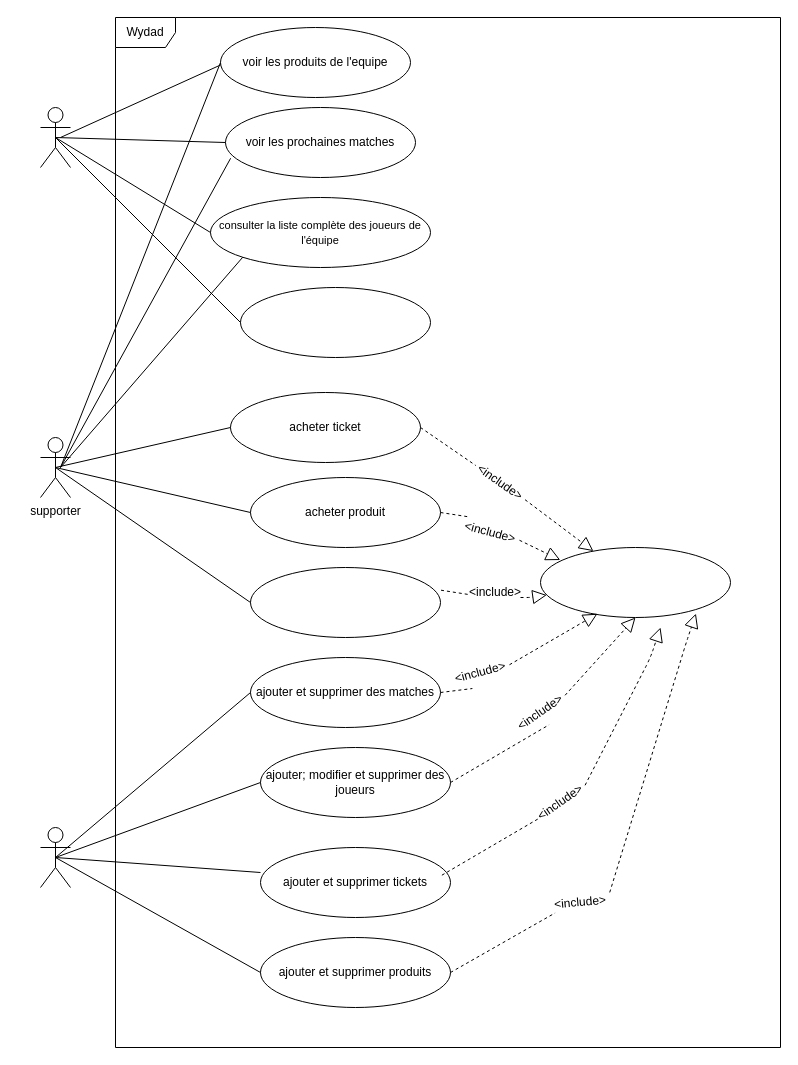
Some shapes in this 798 by 1065 pixel diagram are drawn without their labels. The centre of each missing label's shape, as x and y in pixels:
administrateur: the point at 55,857
authentification: the point at 635,582
créer un compte: the point at 335,322
inspecter les produits et les tickets acheter: the point at 345,602
utilisateur: the point at 55,137
